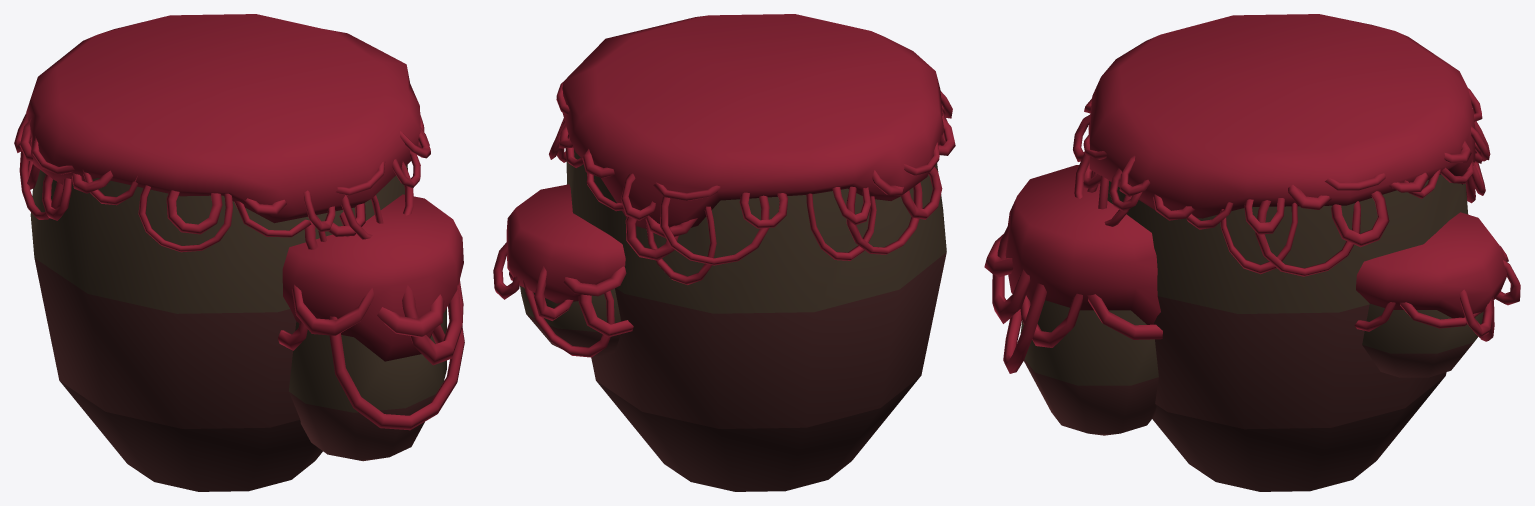
Rendered from Alien_Island06.fbx.
3 views of the same model, side by side, from view 1: azimuth 30°, elevation 25°; view 2: azimuth 150°, elevation 25°; view 3: azimuth 270°, elevation 25° (orthographic).
Parts seen in each view (by area): view 1: Alien_Island06; view 2: Alien_Island06; view 3: Alien_Island06.
Part boxes in pixels (x1=…): Alien_Island06: x1=14, y1=14, x2=464, y2=491; Alien_Island06: x1=493, y1=14, x2=955, y2=491; Alien_Island06: x1=984, y1=14, x2=1520, y2=491.
Size of the model in its own units: 9308 by 9690 by 11970.
